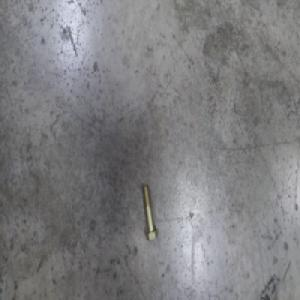Bolt: (141, 185, 159, 242)
